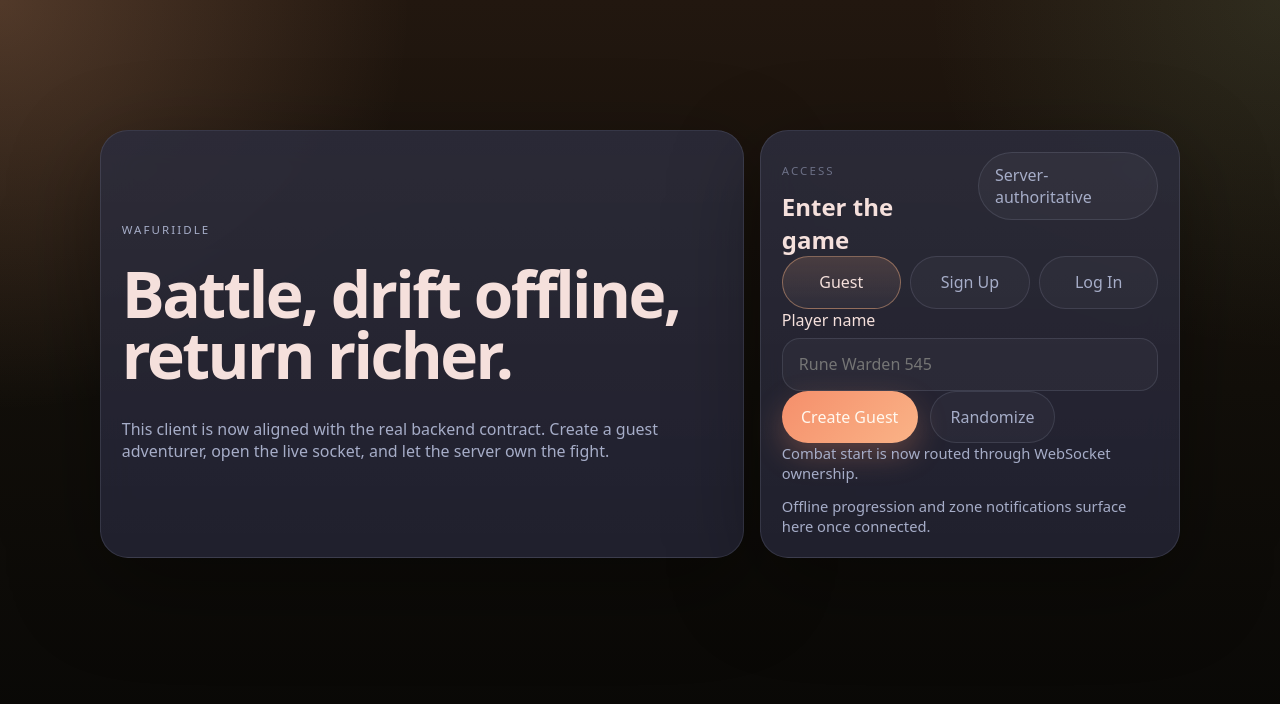
CombatScreen › logs out cleanly when the backend session is already invalidated
Step 1. Type "Scout" into the field labelled "Player name" → [970, 364], box top-left (782, 338), bottom-right (1158, 391)
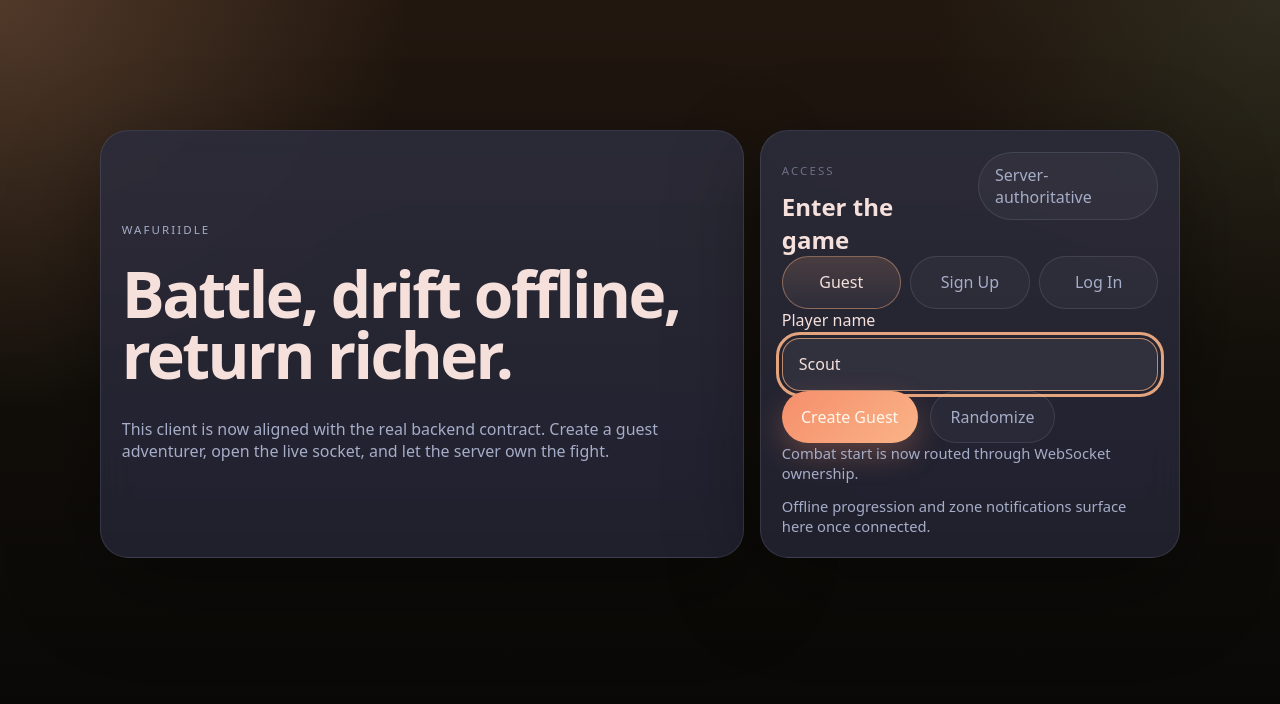
Step 2. Click the button "Create Guest" → [850, 417], box top-left (782, 391), bottom-right (918, 443)
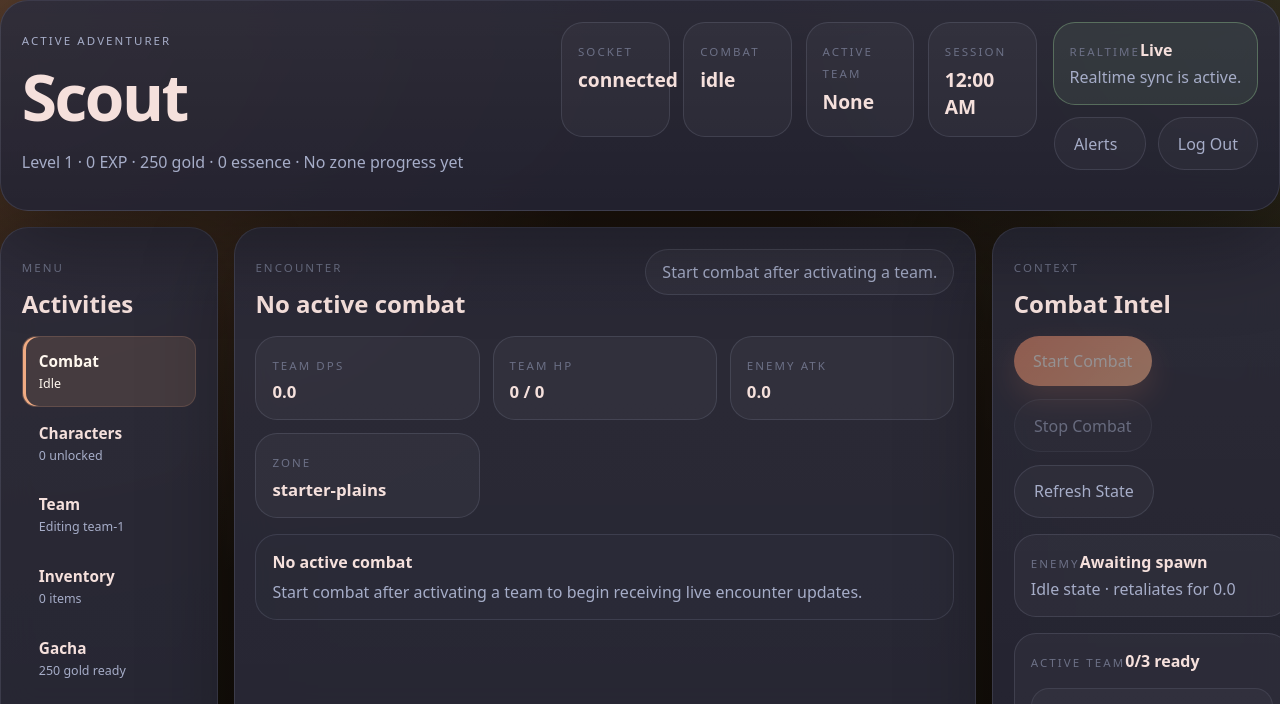
Result: the heading "Scout" is shown at top-left (22, 53), bottom-right (187, 140)
Step 3. Click the button "Log Out" → [1208, 144], box top-left (1158, 117), bottom-right (1258, 170)
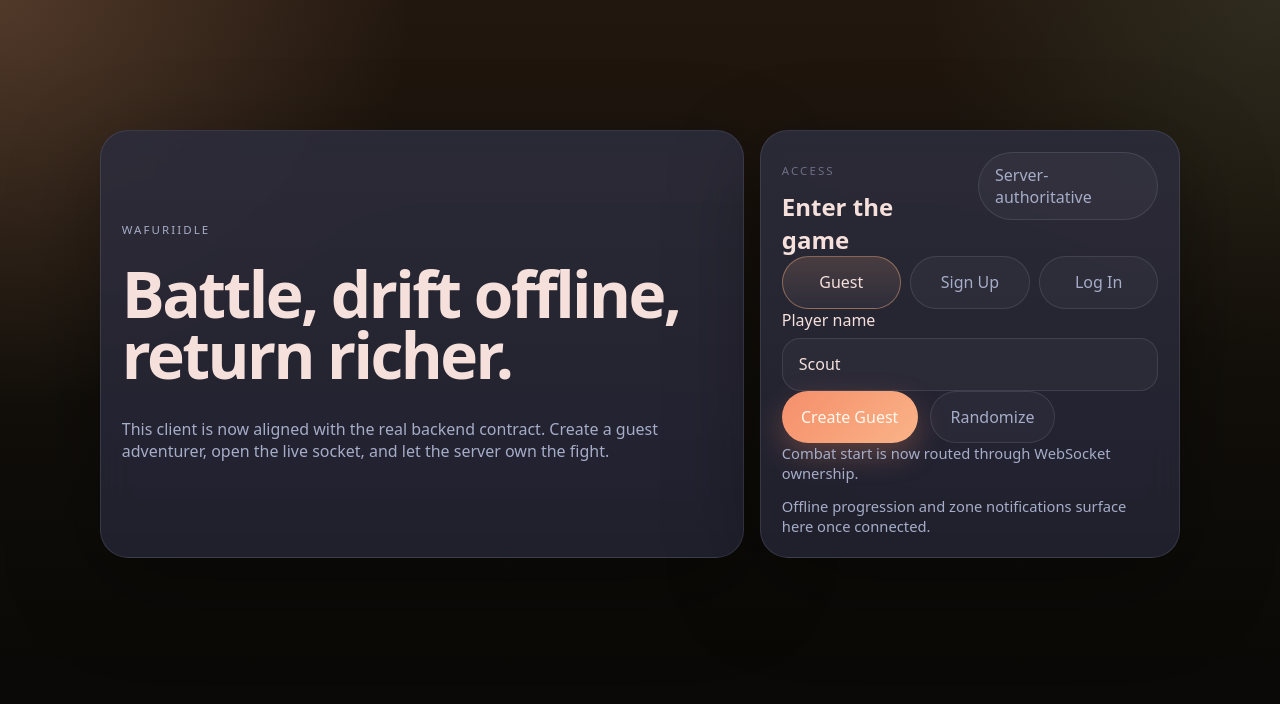
Result: the button "Create Guest" is shown at top-left (782, 391), bottom-right (918, 443)
